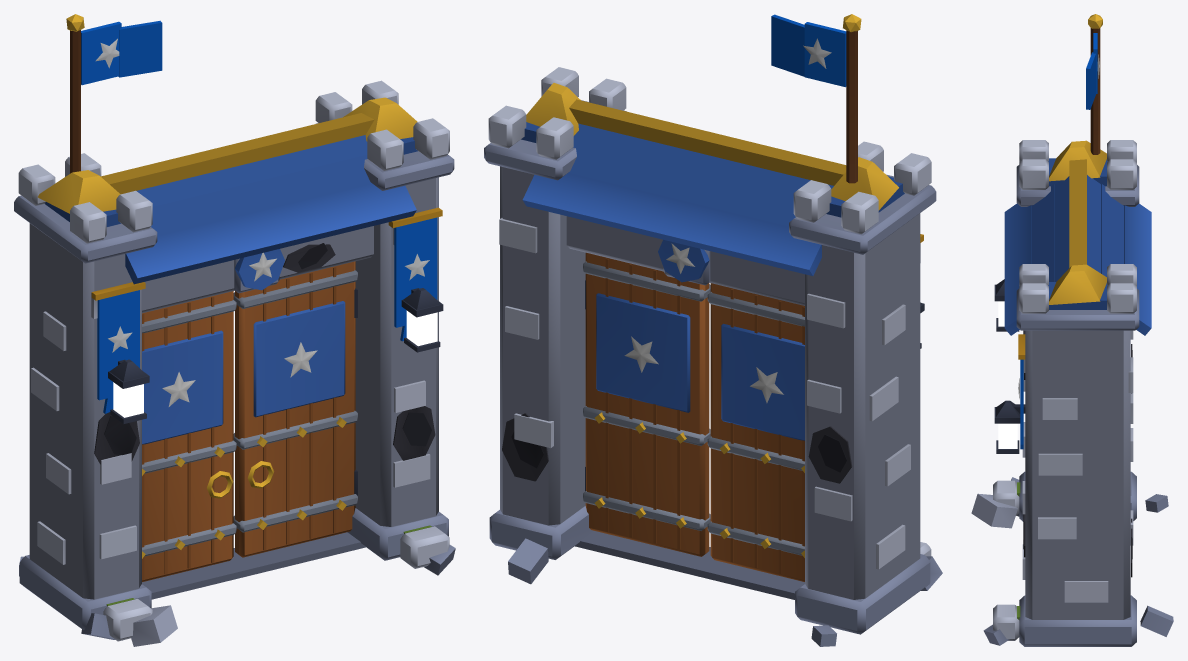
Rendered from b_tor_1.glb.
3 renders of one model, left to right at view 1: azimuth 30°, elevation 25°; view 2: azimuth 150°, elevation 25°; view 3: azimuth 270°, elevation 25°, orthographic. The views are drawn at different scales.
Parts seen in each view (by area): view 1: body, door_r, door_l, dmg2_body, sway_flag, banner_l, banner_r, dmg1_body, lamp_glow, lamp_closed_glow; view 2: body, door_r, door_l, sway_flag, dmg2_body, dmg1_body; view 3: body, dmg2_body, dmg1_body, sway_flag, lamp_glow, banner_r.
Boxes of the visible parts, bbox=[...] form: body: bbox=[14, 14, 454, 641]; door_r: bbox=[233, 261, 357, 557]; door_l: bbox=[142, 291, 236, 581]; dmg2_body: bbox=[81, 243, 335, 646]; sway_flag: bbox=[81, 20, 162, 85]; banner_l: bbox=[97, 290, 139, 413]; banner_r: bbox=[394, 217, 437, 341]; dmg1_body: bbox=[19, 406, 455, 576]; lamp_glow: bbox=[406, 310, 437, 346]; lamp_closed_glow: bbox=[113, 382, 143, 417]; body: bbox=[484, 14, 936, 634]; door_r: bbox=[583, 252, 710, 556]; door_l: bbox=[707, 283, 804, 581]; sway_flag: bbox=[771, 14, 846, 87]; dmg2_body: bbox=[502, 413, 942, 590]; dmg1_body: bbox=[808, 426, 852, 646]; body: bbox=[993, 14, 1151, 646]; dmg2_body: bbox=[971, 330, 1173, 636]; dmg1_body: bbox=[983, 344, 1168, 645]; sway_flag: bbox=[1086, 33, 1099, 109]; lamp_glow: bbox=[998, 423, 1017, 448]; banner_r: bbox=[1018, 359, 1023, 449].
Bounding box in the file's own units: 4.2 × 6.36 × 2.3.
